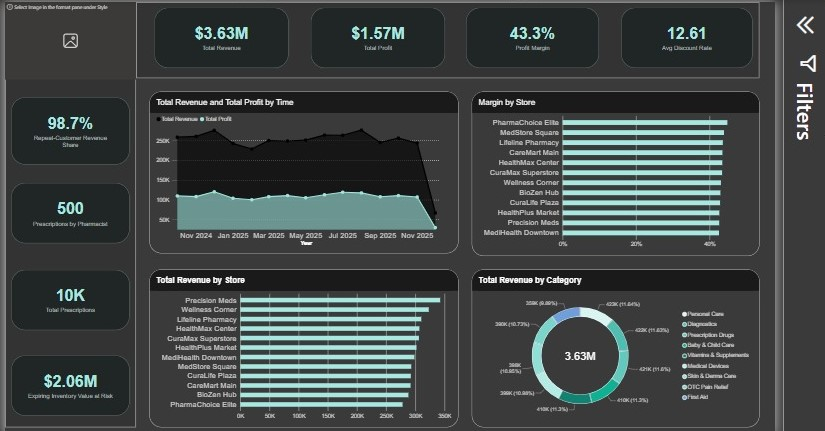

What the dashboard file says about the page in this screenshot:
{"tool":"powerbi","page":{"name":"Overview","canvas":[1920,1080],"ordinal":1},"visuals":[{"type":"STANDALONEhtmlContent443BE3AD55E043BF878BED274D3A6855","fields":{"content":["_Measure.Total_Revenue_KPI"]},"box":[356.7,0,366.4,181.7],"z":0,"group":"g2"},{"type":"STANDALONEhtmlContent443BE3AD55E043BF878BED274D3A6855","fields":{"content":["_Measure.Expiring Inventory Value at Risk KPI"]},"box":[0,867.2,326.7,204],"z":0,"group":"g1"},{"type":"shape","box":[0,190,326.7,870],"z":500},{"type":"STANDALONEhtmlContent443BE3AD55E043BF878BED274D3A6855","fields":{"content":["_Measure.Repeat-Customer Revenue Share KPI"]},"box":[0,223.3,326.7,204.2],"z":1000,"group":"g1"},{"type":"areaChart","title":"Total Revenue and Total Profit by Time","fields":{"Category":["calender.Date.Variation.Date Hierarchy.Year","calender.Date.Variation.Date Hierarchy.Quarter","calender.Date.Variation.Date Hierarchy.Month","calender.Date.Variation.Date Hierarchy.Day"],"Y":["_Measure.total_revenue","_Measure.Total_Profit"]},"box":[360,223.3,770,403.3],"z":1000},{"type":"STANDALONEhtmlContent443BE3AD55E043BF878BED274D3A6855","fields":{"content":["_Measure.profit KPI"]},"box":[745.7,0,366.4,181.7],"z":2000,"group":"g2"},{"type":"STANDALONEhtmlContent443BE3AD55E043BF878BED274D3A6855","fields":{"content":["_Measure.Prescriptions by Pharmacist KPI"]},"box":[0,438.1,326.7,204],"z":2000,"group":"g1"},{"type":"clusteredBarChart","title":"Total Revenue by Store","fields":{"Category":["stores.store_name"],"Y":["_Measure.total_revenue"]},"box":[360,666.7,770,393.3],"z":2000},{"type":"STANDALONEhtmlContent443BE3AD55E043BF878BED274D3A6855","fields":{"content":["_Measure.margin KPI"]},"box":[1134.7,0,363.3,183.3],"z":3000,"group":"g2"},{"type":"group","id":"g1","title":"Group 1","box":[0,223.3,326.7,847.9],"z":3000},{"type":"STANDALONEhtmlContent443BE3AD55E043BF878BED274D3A6855","fields":{"content":["_Measure.Total Prescriptions KPI"]},"box":[0,652.7,326.7,204],"z":3000,"group":"g1"},{"type":"barChart","title":"Margin by Store","fields":{"Category":["stores.store_name"],"Y":["_Measure.margin"]},"box":[1163.3,223.3,716.7,410],"z":4000},{"type":"STANDALONEhtmlContent443BE3AD55E043BF878BED274D3A6855","fields":{"content":["_Measure.Discount KPI"]},"box":[1520.6,0,359.5,183.3],"z":5000,"group":"g2"},{"type":"donutChart","title":"Total Revenue by Category","fields":{"Category":["categories.category_name"],"Y":["_Measure.Total Revenue"]},"box":[1163.3,666.7,716.7,393.3],"z":5000},{"type":"image","box":[0,0,326.7,193.3],"z":6000},{"type":"shape","box":[326.7,0,1553.3,190],"z":6500},{"type":"group","id":"g2","title":"Group 2","box":[356.7,0,1523.3,183.3],"z":7000}]}

Visuals, with their boxes on the page's 1920x1080 design canvas (x1, y1, x2, y2). These are canvas units, not pixel positions in the 825x431 screenshot, which may show the page scaled, cropped or inside an application window:
STANDALONEhtmlContent443BE3AD55E043BF878BED274D3A6855 - _Measure.Total_Revenue_KPI: (357,0,723,182)
STANDALONEhtmlContent443BE3AD55E043BF878BED274D3A6855 - _Measure.Expiring Inventory Value at Risk KPI: (0,867,327,1071)
shape: (0,190,327,1060)
STANDALONEhtmlContent443BE3AD55E043BF878BED274D3A6855 - _Measure.Repeat-Customer Revenue Share KPI: (0,223,327,428)
"Total Revenue and Total Profit by Time" areaChart: (360,223,1130,627)
STANDALONEhtmlContent443BE3AD55E043BF878BED274D3A6855 - _Measure.profit KPI: (746,0,1112,182)
STANDALONEhtmlContent443BE3AD55E043BF878BED274D3A6855 - _Measure.Prescriptions by Pharmacist KPI: (0,438,327,642)
"Total Revenue by Store" clusteredBarChart: (360,667,1130,1060)
STANDALONEhtmlContent443BE3AD55E043BF878BED274D3A6855 - _Measure.margin KPI: (1135,0,1498,183)
"Group 1" group: (0,223,327,1071)
STANDALONEhtmlContent443BE3AD55E043BF878BED274D3A6855 - _Measure.Total Prescriptions KPI: (0,653,327,857)
"Margin by Store" barChart: (1163,223,1880,633)
STANDALONEhtmlContent443BE3AD55E043BF878BED274D3A6855 - _Measure.Discount KPI: (1521,0,1880,183)
"Total Revenue by Category" donutChart: (1163,667,1880,1060)
image: (0,0,327,193)
shape: (327,0,1880,190)
"Group 2" group: (357,0,1880,183)
